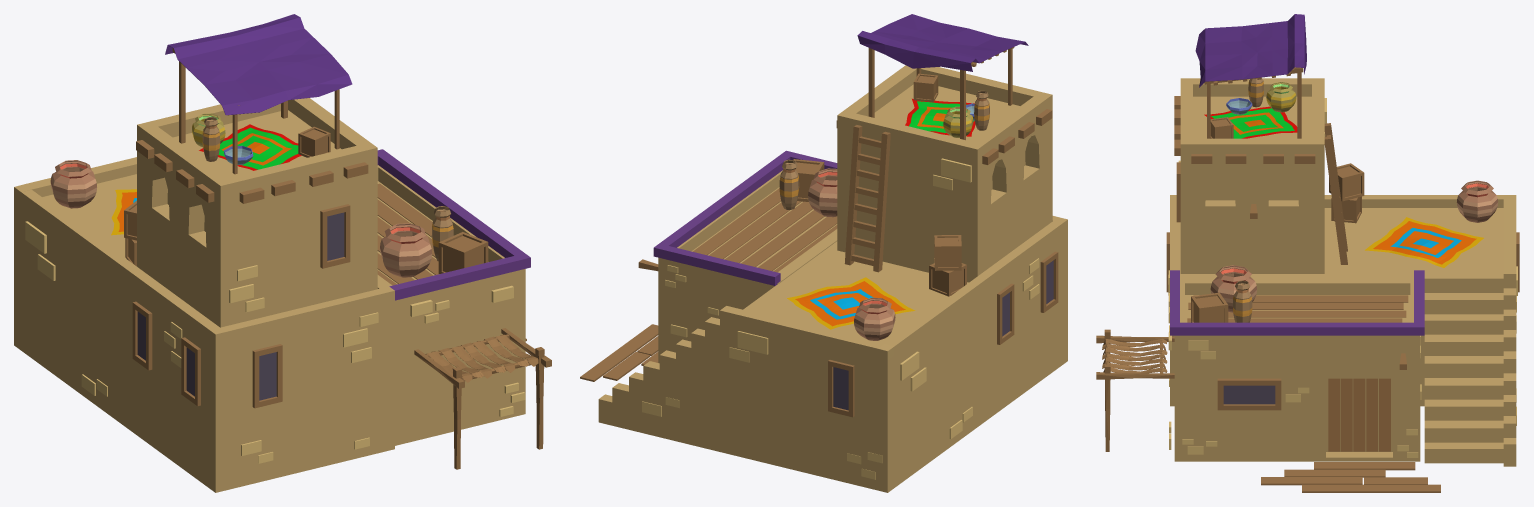
The model's file is SL_House3.fbx.
3 renders of one model, left to right at view 1: azimuth 30°, elevation 25°; view 2: azimuth 150°, elevation 25°; view 3: azimuth 270°, elevation 25°, orthographic. The views are drawn at different scales.
Parts seen in each view (by area): view 1: SL_House3; view 2: SL_House3; view 3: SL_House3.
Boxes of the visible parts, left/top/right/bottom form: SL_House3: left=14, top=14, right=551, bottom=492; SL_House3: left=580, top=14, right=1067, bottom=492; SL_House3: left=1096, top=14, right=1519, bottom=492.
Size of the model in its own units: 1213 by 1137 by 1322.
